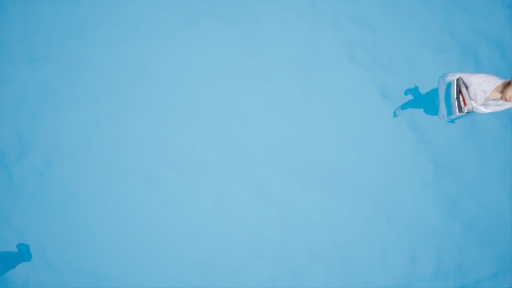person: (391, 66, 512, 129)
